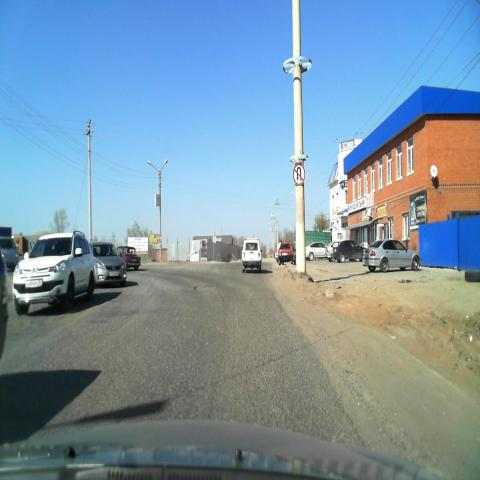3_19: (292, 163, 306, 186)
